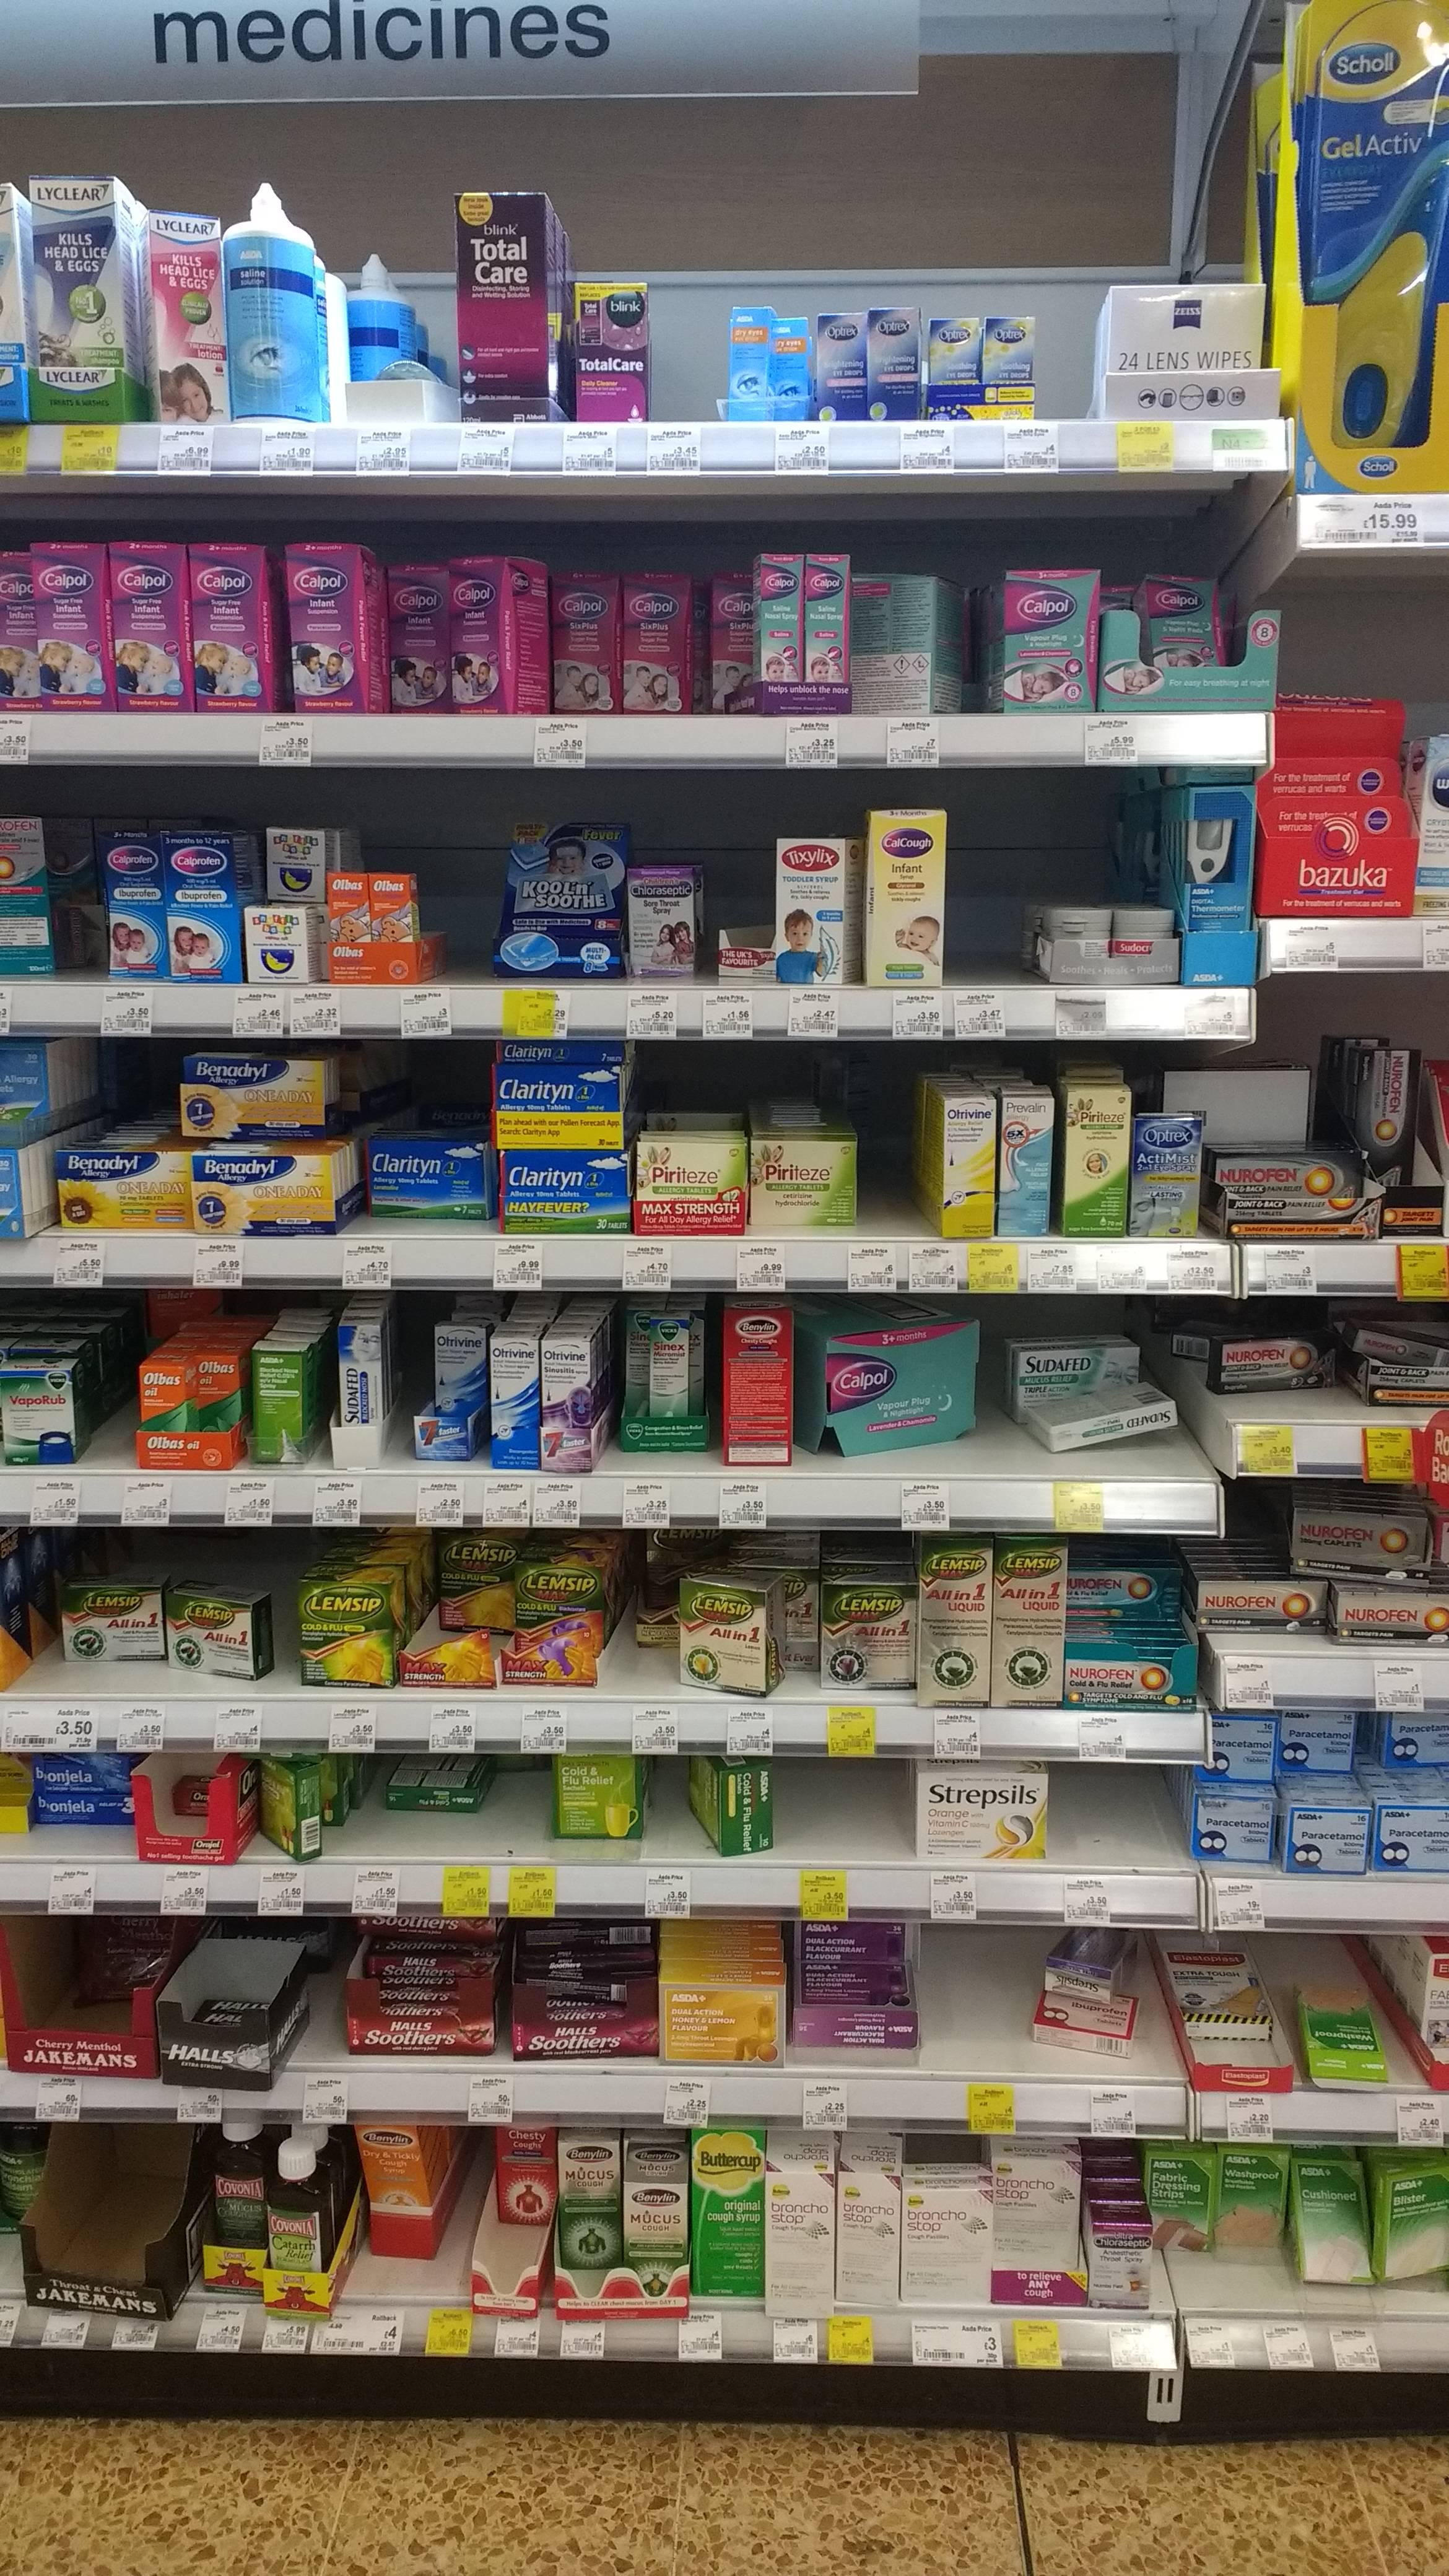empty: (925, 1927, 1030, 2077), (950, 793, 1026, 973), (798, 1752, 906, 1856), (1072, 1764, 1182, 1861), (863, 1060, 924, 1235), (660, 288, 708, 412)
misalignment: (165, 1051, 363, 1242), (796, 1311, 993, 1463), (58, 1560, 281, 1688), (630, 1555, 816, 1698), (1283, 1491, 1444, 1654), (1005, 1325, 1191, 1465), (166, 1921, 329, 2079), (851, 548, 978, 713), (446, 554, 552, 711), (1168, 1939, 1283, 2081), (405, 1530, 511, 1675), (658, 1746, 791, 1861), (1198, 1316, 1350, 1415), (1040, 1930, 1154, 2063), (1286, 2148, 1384, 2288), (1292, 1959, 1387, 2098), (241, 1760, 368, 1865), (377, 1764, 522, 1831)
